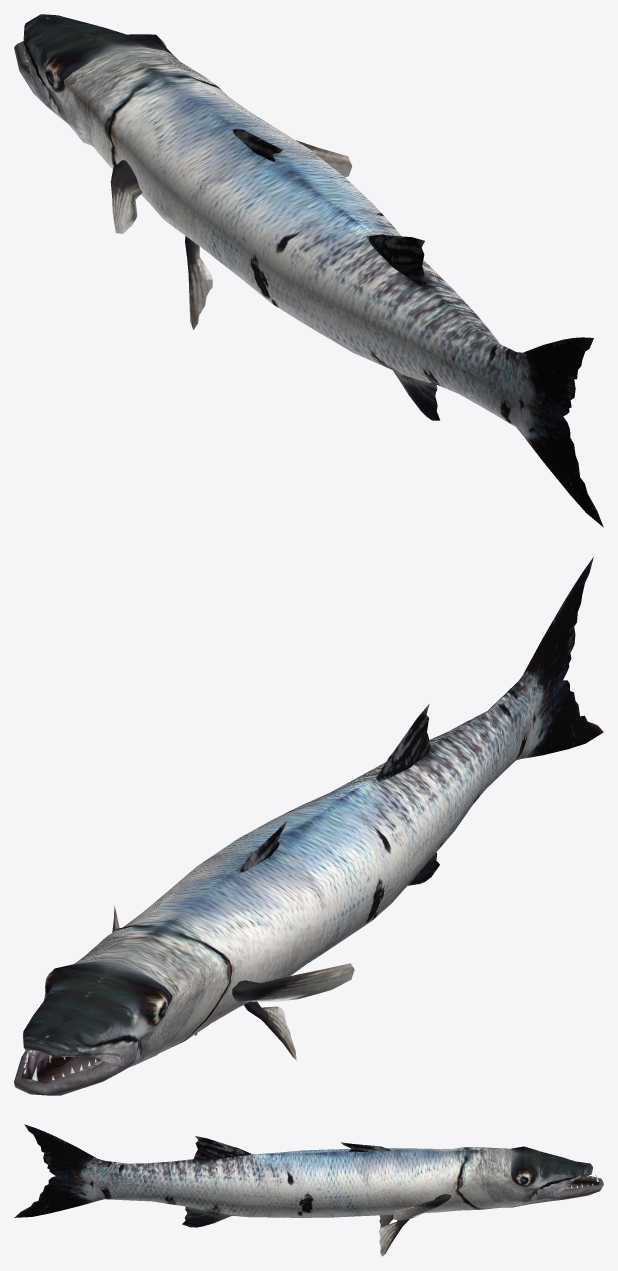
The model's file is Barracuda.glb.
3 views of the same model, one above another, from view 1: azimuth 30°, elevation 25°; view 2: azimuth 150°, elevation 25°; view 3: azimuth 270°, elevation 25° (orthographic). The views are drawn at different scales.
Visible parts, largest first — view 1: Barracuda, PinneLaterali.001, PinnaDorsale1, PinneInferiori.001, PinnaDorsale2; view 2: Barracuda, PinneLaterali.001, PinnaDorsale1, PinneInferiori.001; view 3: Barracuda, PinnaDorsale1, PinneInferiori.001, PinneLaterali.001, PinnaDorsale2.
Part boxes in pixels (x1,y1,x2,y2): Barracuda: [14, 14, 603, 527]; PinneLaterali.001: [110, 140, 352, 233]; PinnaDorsale1: [366, 234, 426, 288]; PinneInferiori.001: [185, 236, 212, 329]; PinnaDorsale2: [232, 129, 283, 162]; Barracuda: [14, 557, 603, 1095]; PinneLaterali.001: [112, 906, 354, 1001]; PinnaDorsale1: [373, 703, 431, 782]; PinneInferiori.001: [195, 1001, 296, 1060]; Barracuda: [14, 1124, 603, 1227]; PinnaDorsale1: [193, 1136, 252, 1159]; PinneInferiori.001: [378, 1214, 409, 1256]; PinneLaterali.001: [393, 1194, 451, 1220]; PinnaDorsale2: [341, 1142, 390, 1151].
Size of the model in its own units: 4.1 by 3.87 by 17.17.
Materials: 1 (1 with a texture image).
